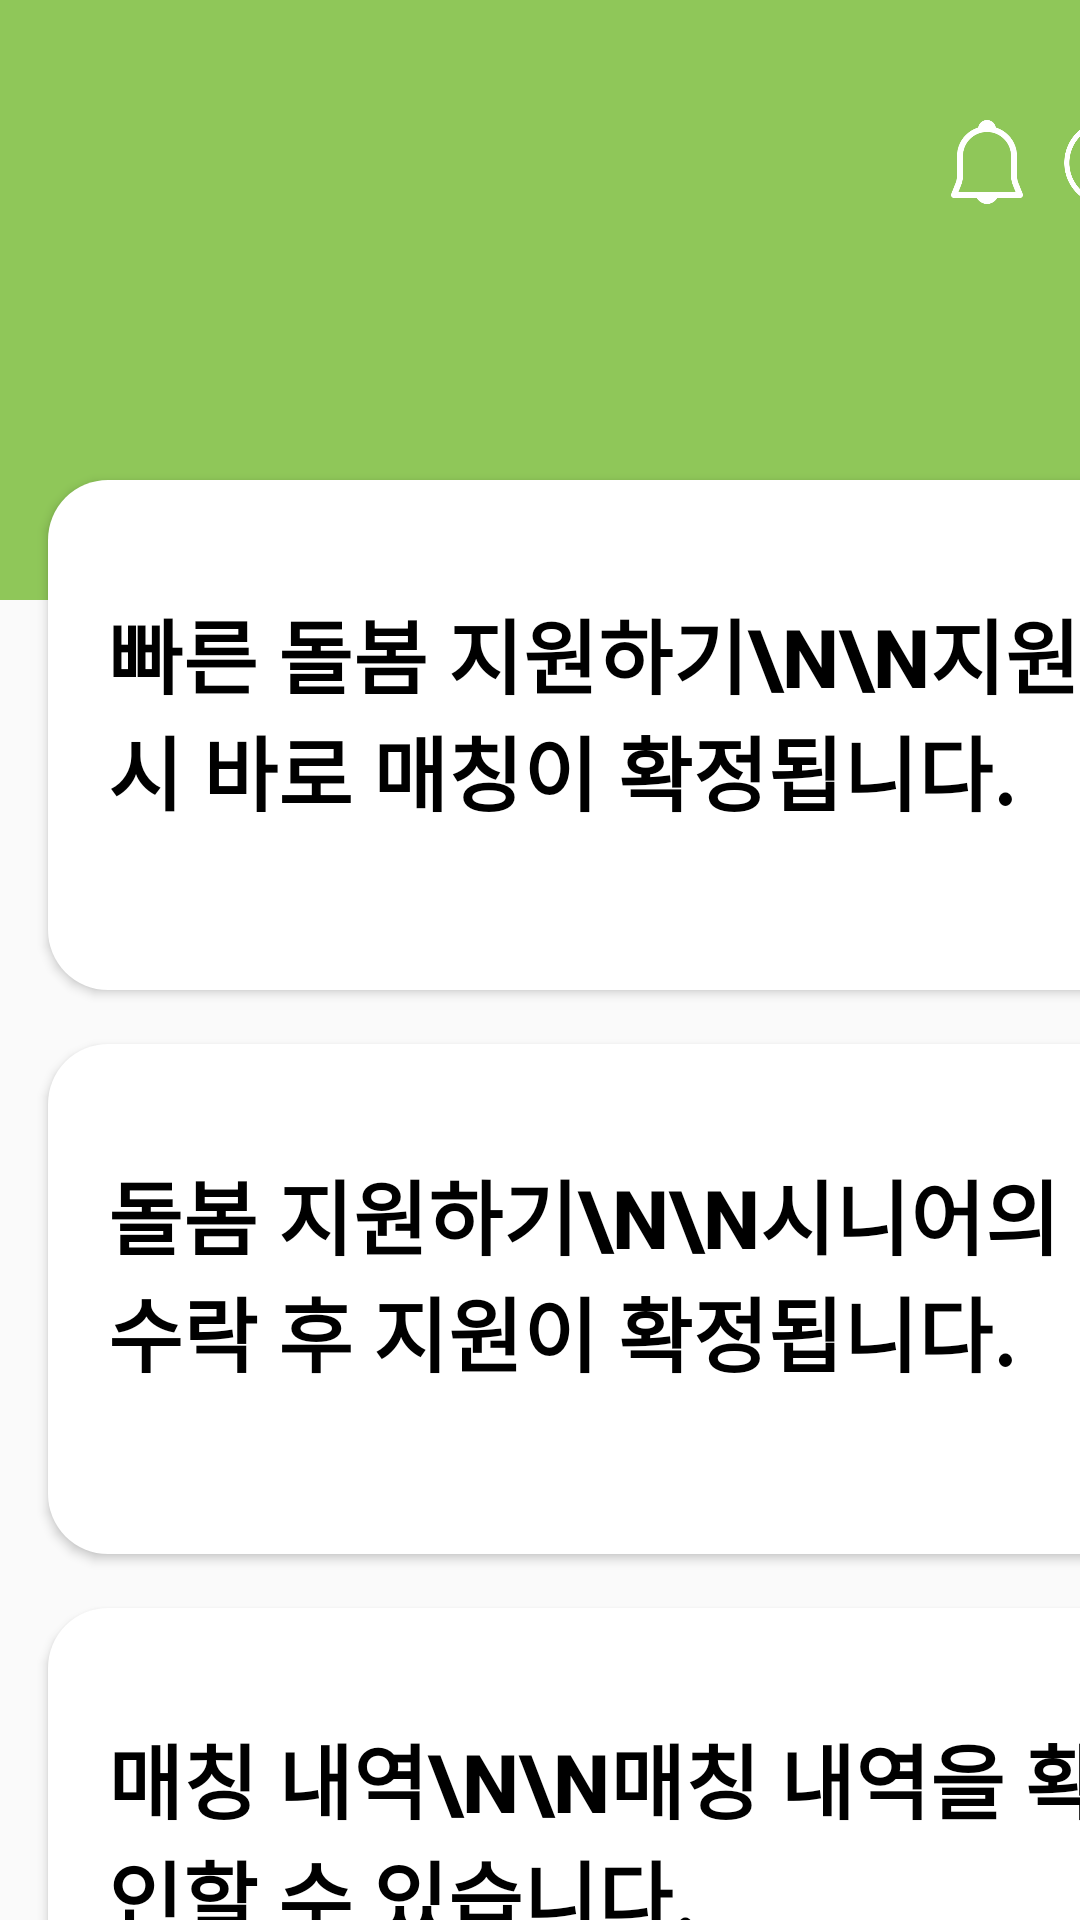

Where to tap for icons on this 1080 × 1920 app screen, as [x,y]:
alarmimg: [987,162]
